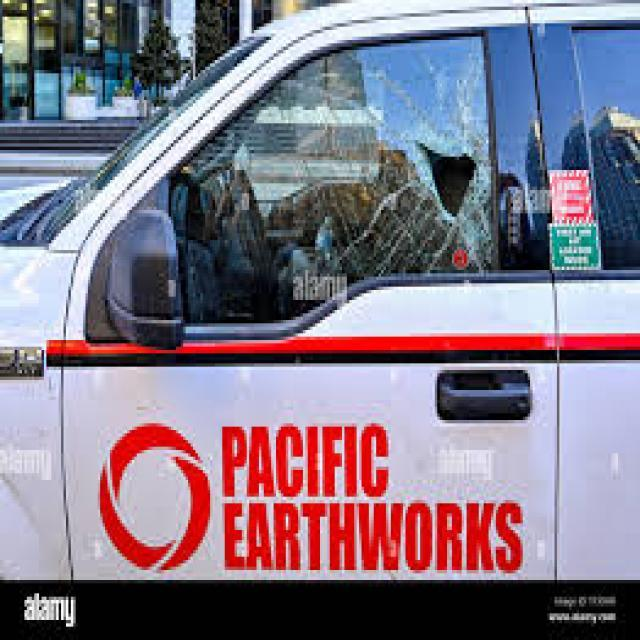damaged-window: (170, 18, 502, 326)
